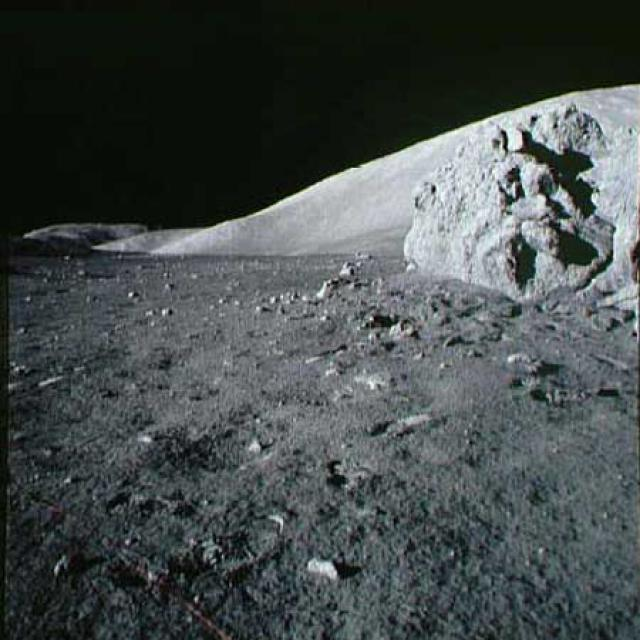rock: (401, 100, 639, 337), (312, 274, 342, 301), (341, 258, 359, 278)
